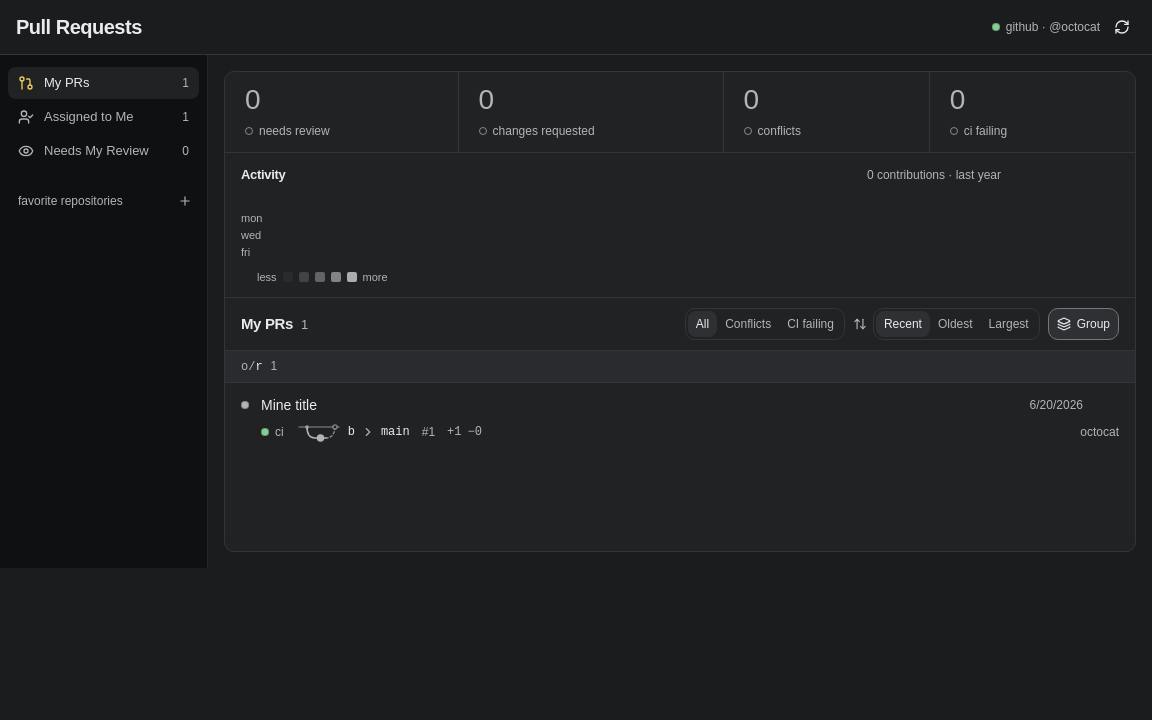
Test case: PrsPage › shows one active queue at a time and switches from My PRs
This screenshot has width=1152, height=720.
Expected: the text "Mine title" is shown, [261,394,317,416]
Expected: the text "Assigned title" is not shown
Click the button "Assigned to Me 1" at (104, 117), box [8,101,199,133]
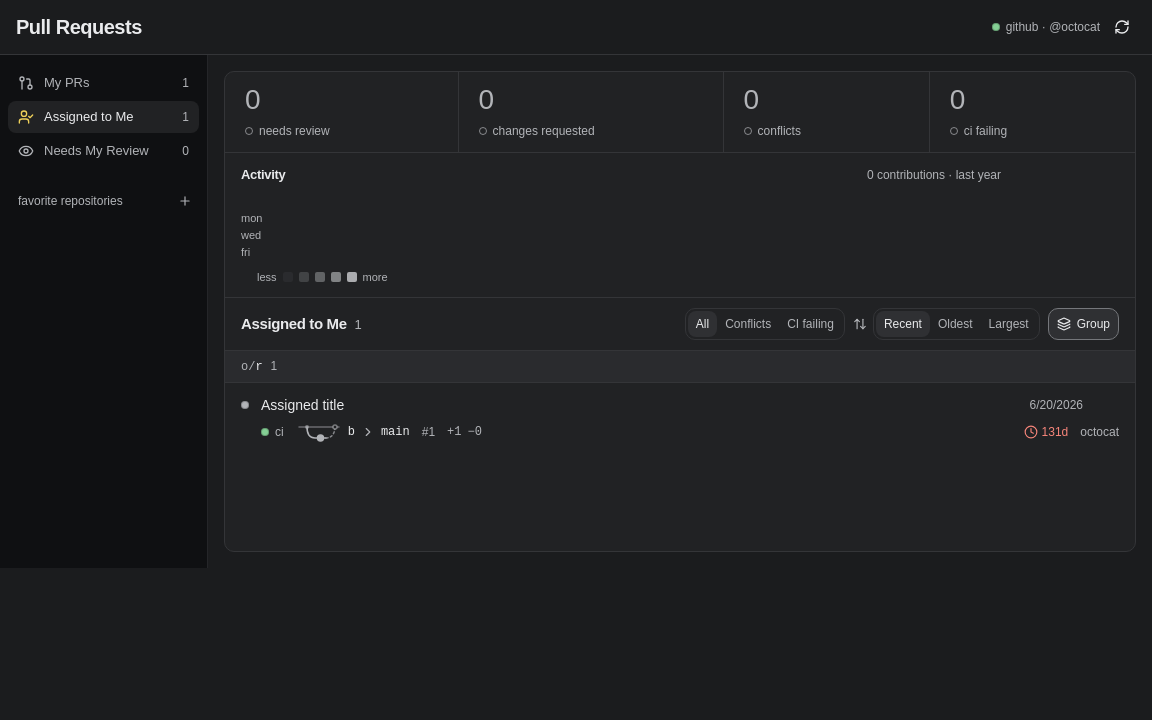
Result: the text "Assigned title" is shown at [261,394,344,416]
Result: the text "Mine title" is gone
